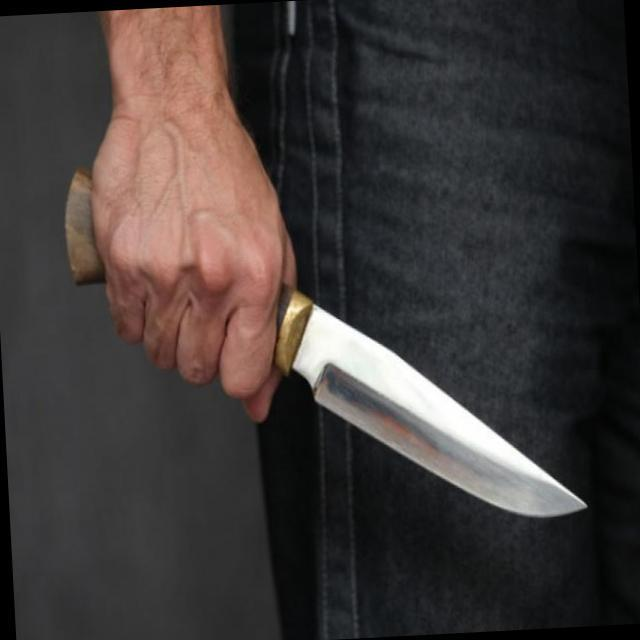Knife: (136, 201, 602, 560)
